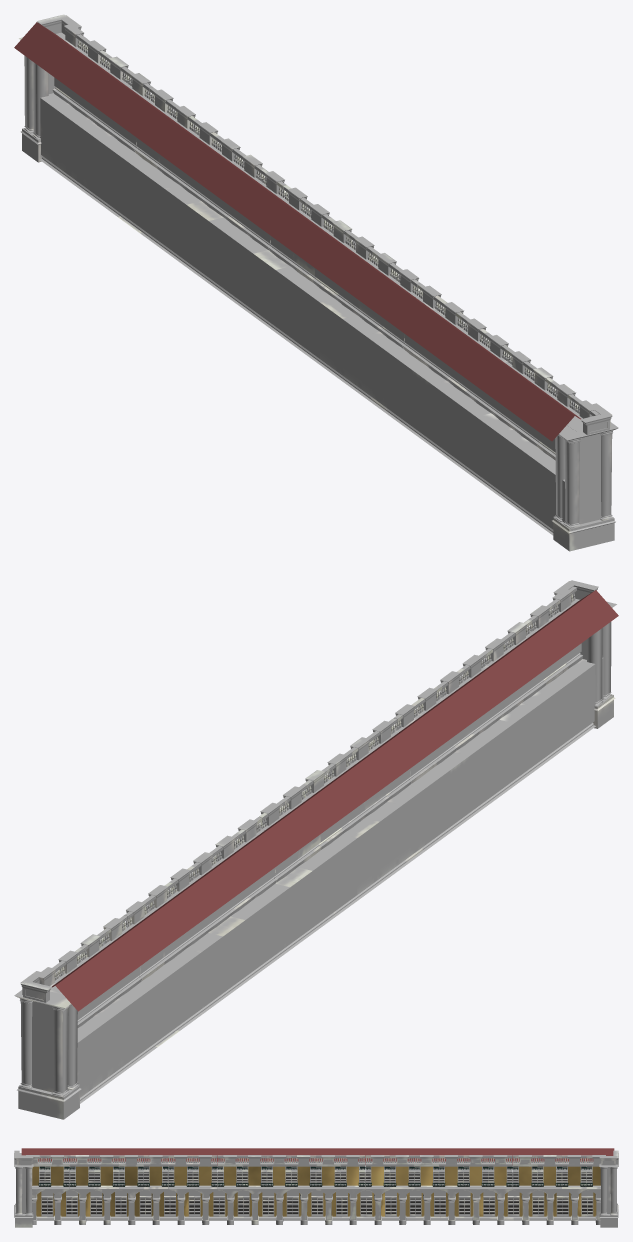
The model's file is buildings_2.fbx.
The picture shows the model from 3 angles, top to bottom: view 1: azimuth 30°, elevation 25°; view 2: azimuth 150°, elevation 25°; view 3: azimuth 270°, elevation 25°; orthographic projection. The views are drawn at different scales.
Visible parts, largest first — view 1: polySurface1855; view 2: polySurface1855; view 3: polySurface1855.
Part boxes in pixels (left/top/right/bottom): polySurface1855: left=14, top=14, right=618, bottom=551; polySurface1855: left=14, top=580, right=618, bottom=1119; polySurface1855: left=14, top=1148, right=618, bottom=1227.
Bounding box in the file's own units: 5.09 × 10.47 × 81.
Materials: 5 (4 with a texture image).
